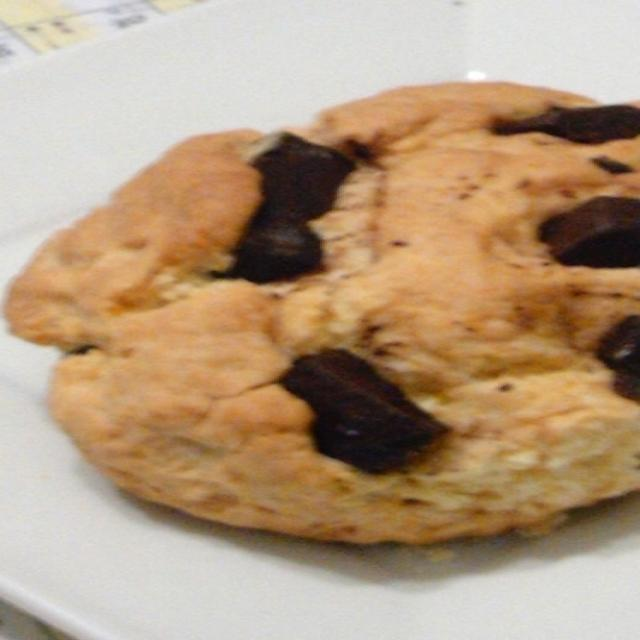面包点心: (7, 8, 636, 628)
